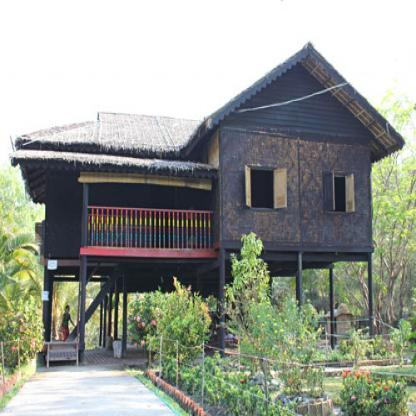Balcony: (80, 206, 217, 257)
Blind: (275, 169, 286, 208), (324, 174, 335, 212), (345, 174, 355, 213), (245, 165, 251, 208)
Building Outline: (8, 40, 405, 367)
Dont: (126, 275, 310, 416), (210, 231, 327, 399)
Facade: (42, 126, 374, 363)
Floor Slab: (44, 252, 372, 264)
Pillar: (79, 183, 89, 363), (42, 264, 53, 363), (368, 252, 374, 355), (298, 252, 304, 355), (220, 250, 225, 358), (329, 261, 335, 349)
Raised Floor: (44, 62, 374, 254)
Roof: (8, 40, 405, 204)
Window: (250, 170, 275, 208), (324, 174, 346, 213)
